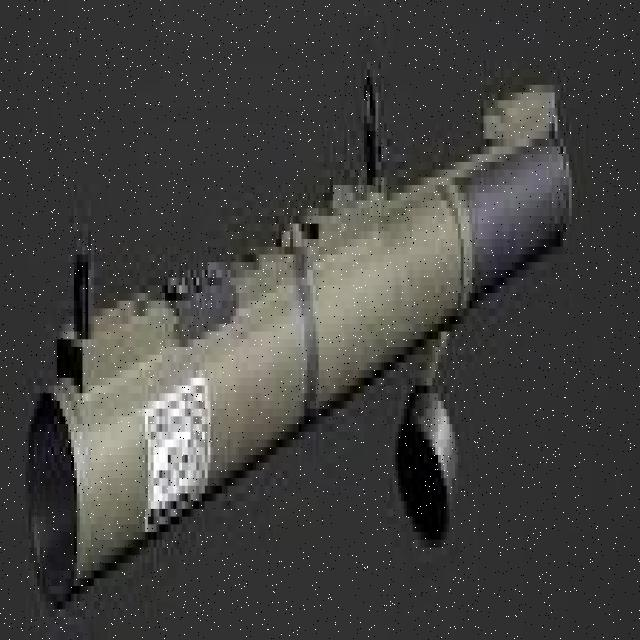bazooka: (19, 47, 580, 630)
